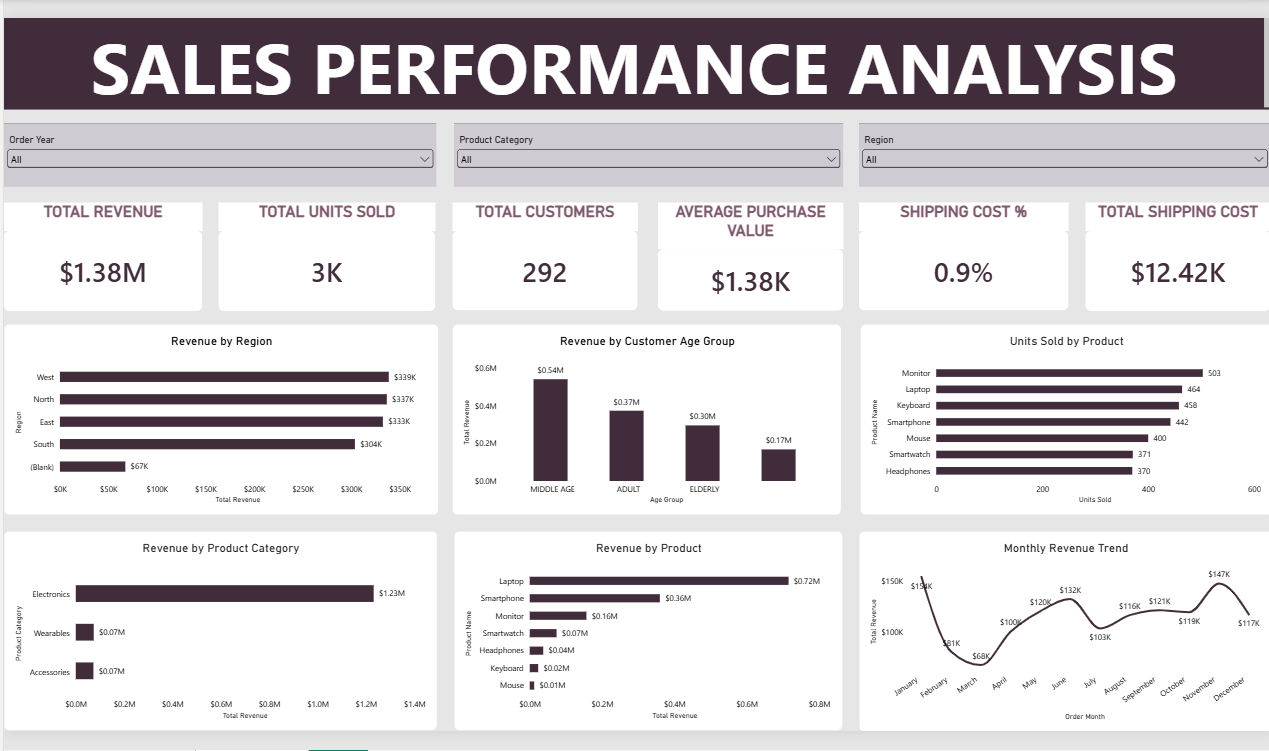

This screenshot's page, from the dashboard's own definition file:
{"tool":"powerbi","page":{"name":"Page 1","canvas":[1920,1080],"ordinal":0},"visuals":[{"type":"lineChart","title":"Monthly Revenue Trend","fields":{"Y":["Sum(SALES TABLE.Corrected Total Price)"],"Category":["SALES TABLE.Order Month"]},"box":[1294.3,776.6,625.6,304.2],"z":0},{"type":"clusteredBarChart","title":"Revenue by Product","fields":{"Y":["Sum(SALES TABLE.Corrected Total Price)"],"Category":["SALES TABLE.Product Name"]},"box":[681.7,776.6,588.9,302],"z":1000},{"type":"clusteredBarChart","title":"Revenue by Product Category","fields":{"Y":["Sum(SALES TABLE.Corrected Total Price)"],"Category":["SALES TABLE.Category"]},"box":[0,776.6,655.8,302],"z":2000},{"type":"clusteredBarChart","title":"Revenue by Region","fields":{"Category":["SALES TABLE.Region"],"Y":["Sum(SALES TABLE.Corrected Total Price)"]},"box":[0,463.8,657.9,289.1],"z":3000},{"type":"clusteredColumnChart","title":"Revenue by Customer Age Group","fields":{"Category":["SALES TABLE.Age Group"],"Y":["Sum(SALES TABLE.Corrected Total Price)"]},"box":[679.5,463.8,588.9,289.1],"z":4000},{"type":"cardVisual","title":"AVERAGE PURCHASE VALUE","fields":{"Data":["Avg(SALES TABLE.Corrected Total Price)"]},"box":[990.1,278.3,280.6,164.4],"z":5000},{"type":"clusteredBarChart","title":"Units Sold by Product","fields":{"Category":["SALES TABLE.Product Name"],"Y":["Sum(SALES TABLE.Quantity)"]},"box":[1296.5,463.8,623.4,289.1],"z":6000},{"type":"cardVisual","title":"SHIPPING COST %","fields":{"Data":["SALES TABLE.Shipping Cost %"]},"box":[1294.3,278.3,317.1,163.9],"z":7000},{"type":"cardVisual","title":"TOTAL SHIPPING COST","fields":{"Data":["SALES TABLE.Total Shipping Cost"]},"box":[1637.3,278.3,280.6,164.4],"z":8000},{"type":"cardVisual","title":"TOTAL REVENUE","fields":{"Data":["Sum(SALES TABLE.Corrected Total Price)"]},"box":[0,278.3,300.5,164.4],"z":9000},{"type":"cardVisual","title":"TOTAL CUSTOMERS","fields":{"Data":["SALES TABLE.Total Customers"]},"box":[679.5,278.3,280.4,163.9],"z":10000},{"type":"cardVisual","title":"TOTAL UNITS SOLD","fields":{"Data":["Sum(SALES TABLE.Quantity)"]},"box":[325.7,278.3,328.8,164.4],"z":11000},{"type":"slicer","fields":{"Values":["SALES TABLE.Order Year"]},"box":[0,158.7,654.8,96.4],"z":12000},{"type":"slicer","fields":{"Values":["SALES TABLE.Category"]},"box":[680.3,158.7,589.6,96.4],"z":13000},{"type":"slicer","fields":{"Values":["SALES TABLE.Region"]},"box":[1295.4,158.7,623.6,96.4],"z":14000},{"type":"textbox","box":[0,0,1916.2,138.9],"z":15000}]}

Visuals, with their boxes on the page's 1920x1080 design canvas (x1, y1, x2, y2). These are canvas units, not pixel positions in the 1269x751 screenshot, which may show the page scaled, cropped or inside an application window:
"Monthly Revenue Trend" lineChart: bbox(1294, 777, 1920, 1081)
"Revenue by Product" clusteredBarChart: bbox(682, 777, 1271, 1079)
"Revenue by Product Category" clusteredBarChart: bbox(0, 777, 656, 1079)
"Revenue by Region" clusteredBarChart: bbox(0, 464, 658, 753)
"Revenue by Customer Age Group" clusteredColumnChart: bbox(680, 464, 1268, 753)
"AVERAGE PURCHASE VALUE" cardVisual: bbox(990, 278, 1271, 443)
"Units Sold by Product" clusteredBarChart: bbox(1296, 464, 1920, 753)
"SHIPPING COST %" cardVisual: bbox(1294, 278, 1611, 442)
"TOTAL SHIPPING COST" cardVisual: bbox(1637, 278, 1918, 443)
"TOTAL REVENUE" cardVisual: bbox(0, 278, 300, 443)
"TOTAL CUSTOMERS" cardVisual: bbox(680, 278, 960, 442)
"TOTAL UNITS SOLD" cardVisual: bbox(326, 278, 654, 443)
slicer - SALES TABLE.Order Year: bbox(0, 159, 655, 255)
slicer - SALES TABLE.Category: bbox(680, 159, 1270, 255)
slicer - SALES TABLE.Region: bbox(1295, 159, 1919, 255)
textbox: bbox(0, 0, 1916, 139)
